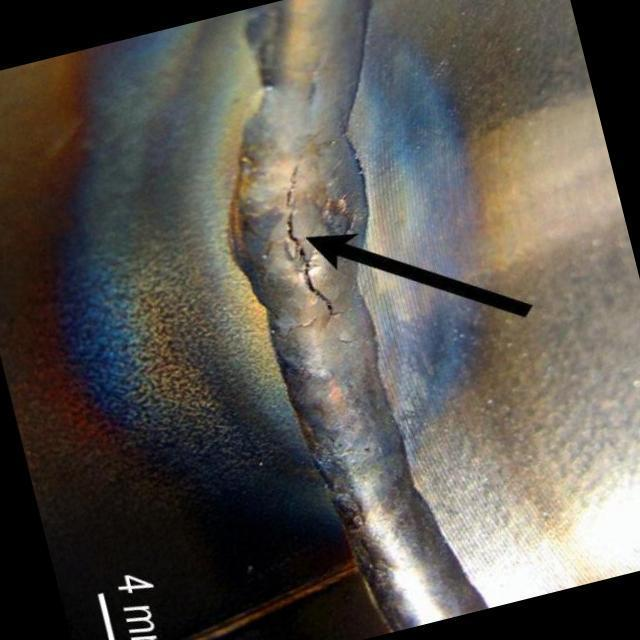defect: (280, 161, 354, 321)
